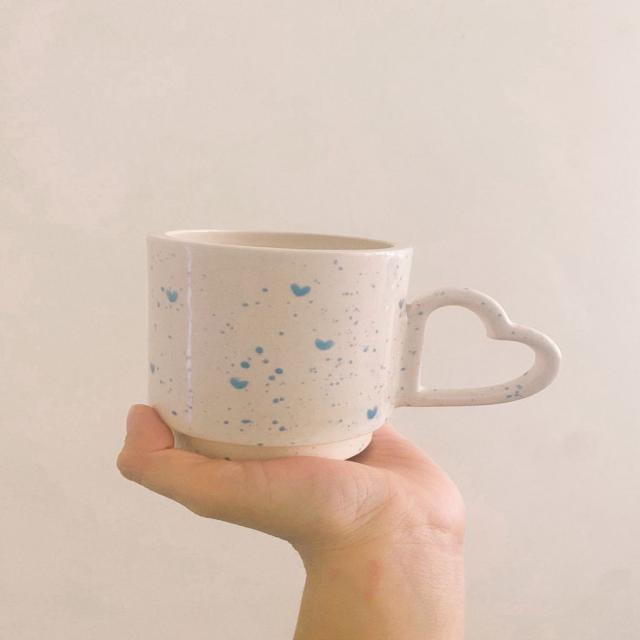glass cup: (143, 228, 561, 464)
